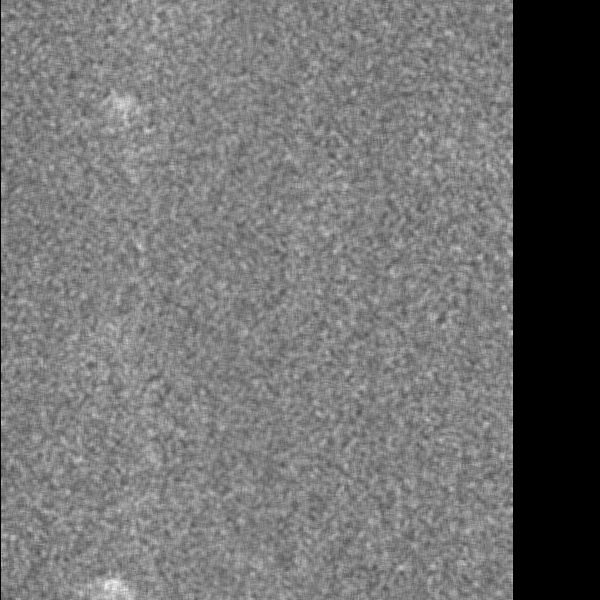spark: (86, 572, 137, 600), (112, 93, 138, 129)
